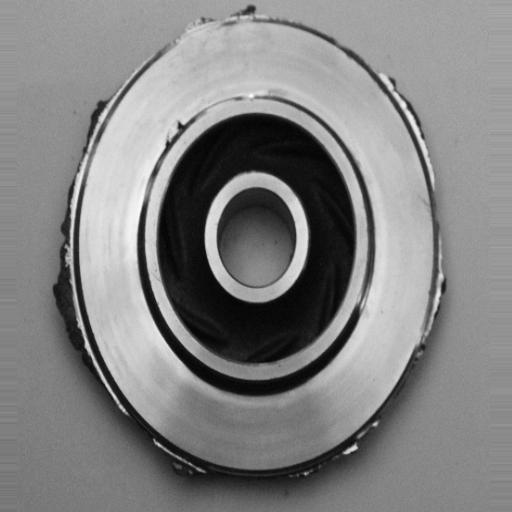casting_with_burr: (52, 0, 450, 492)
crack: (149, 112, 197, 153)
scratch: (220, 75, 299, 114)
